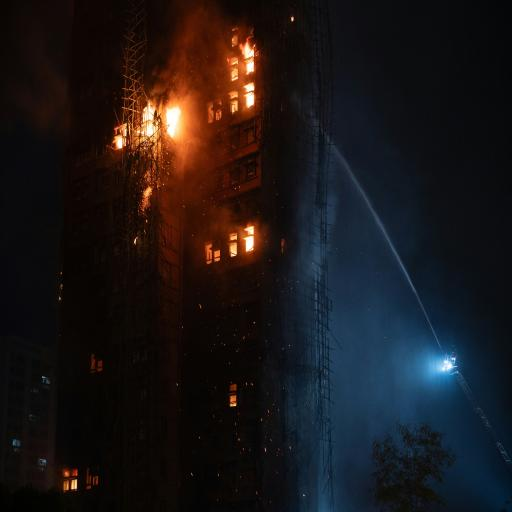buildingfire: (48, 0, 291, 508)
